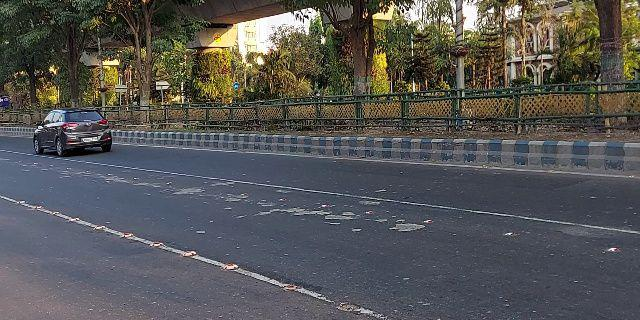Car: (31, 102, 113, 159)
